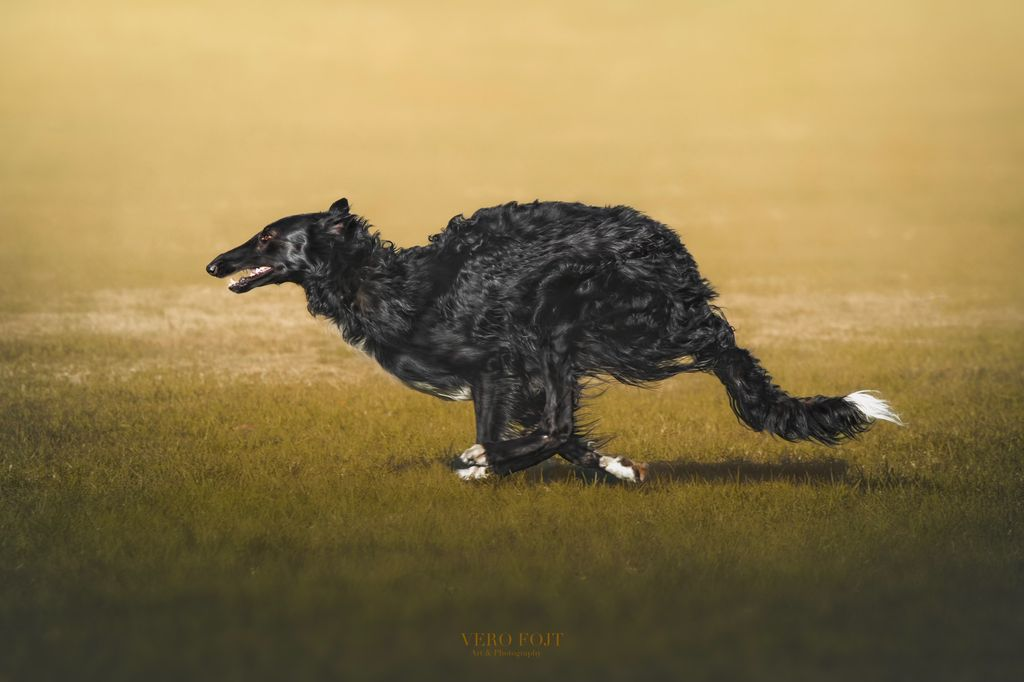borzoi: (197, 195, 907, 501)
